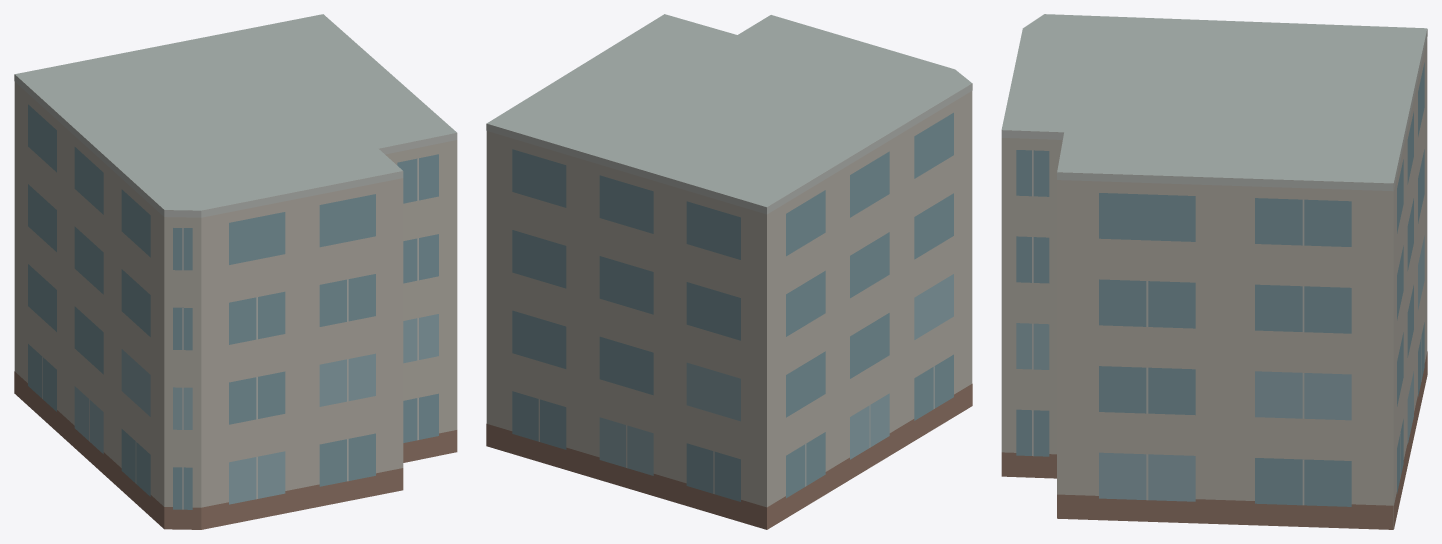
Rendered from survey-upis-32811500.glb.
The picture shows the model from 3 angles, left to right: view 1: azimuth 30°, elevation 25°; view 2: azimuth 150°, elevation 25°; view 3: azimuth 270°, elevation 25°; orthographic projection. The views are drawn at different scales.
Parts seen in each view (by area): view 1: survey-upis-32811500.tmp; view 2: survey-upis-32811500.tmp; view 3: survey-upis-32811500.tmp.
Boxes of the visible parts, bbox=[...] form: survey-upis-32811500.tmp: bbox=[14, 14, 457, 529]; survey-upis-32811500.tmp: bbox=[486, 14, 972, 529]; survey-upis-32811500.tmp: bbox=[1001, 14, 1427, 529].
Bounding box in the file's own units: 11.44 × 10.9 × 12.16.
